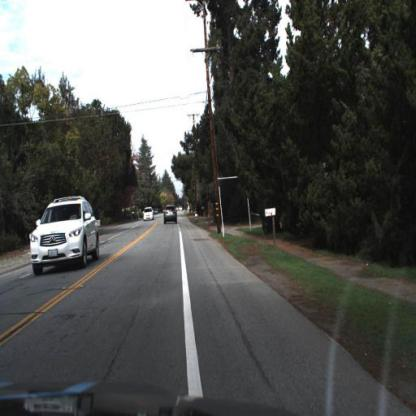car: (31, 196, 101, 278), (163, 202, 180, 226), (142, 205, 156, 224)
